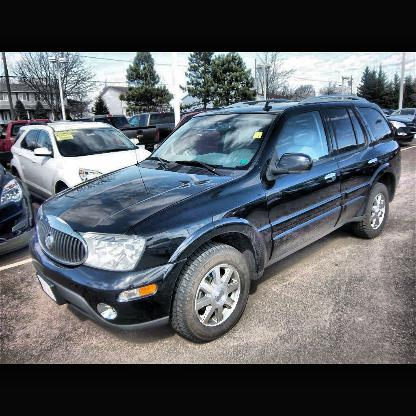Buick Rainier SUV 2007: (34, 96, 402, 346)
